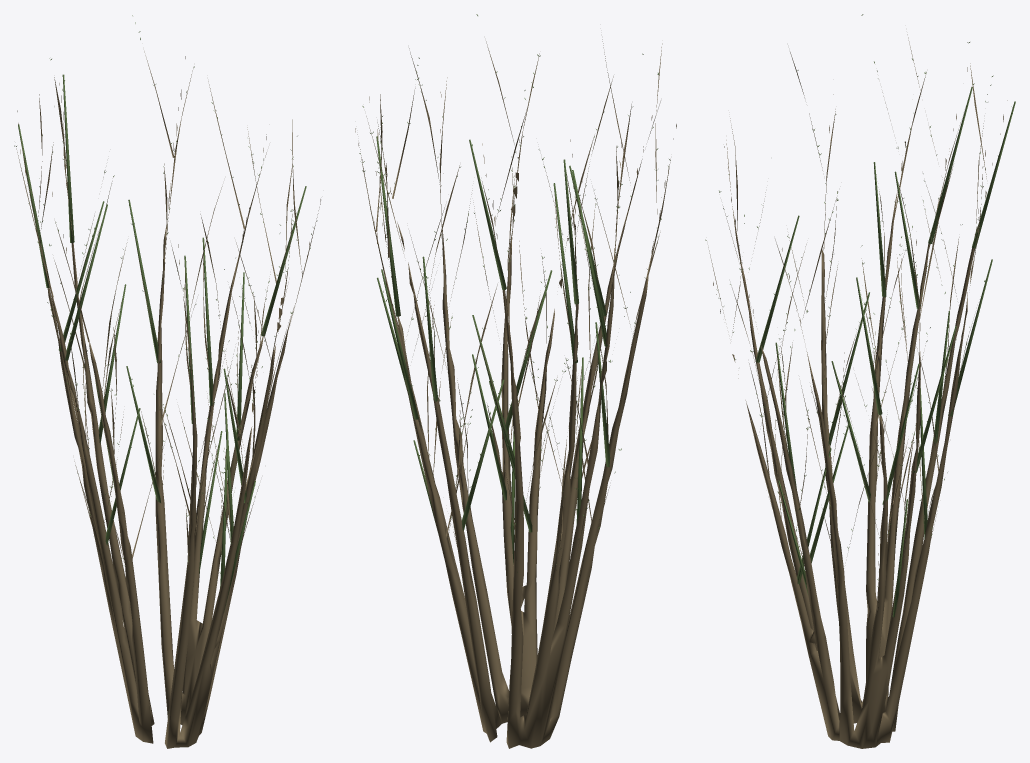
File: BruyereBalais_0_Niveau1.fbx
3 views of the same model, side by side, from view 1: azimuth 30°, elevation 25°; view 2: azimuth 150°, elevation 25°; view 3: azimuth 270°, elevation 25° (orthographic). The views are drawn at different scales.
Visible parts, largest first — view 1: BruyereBalais_0_Niveau1; view 2: BruyereBalais_0_Niveau1; view 3: BruyereBalais_0_Niveau1.
Part boxes in pixels (<box>): BruyereBalais_0_Niveau1: <box>14,15,320,748</box>; BruyereBalais_0_Niveau1: <box>355,14,676,748</box>; BruyereBalais_0_Niveau1: <box>705,14,1015,748</box>.
Bounding box in the file's own units: 55.95 × 133 × 55.62.
